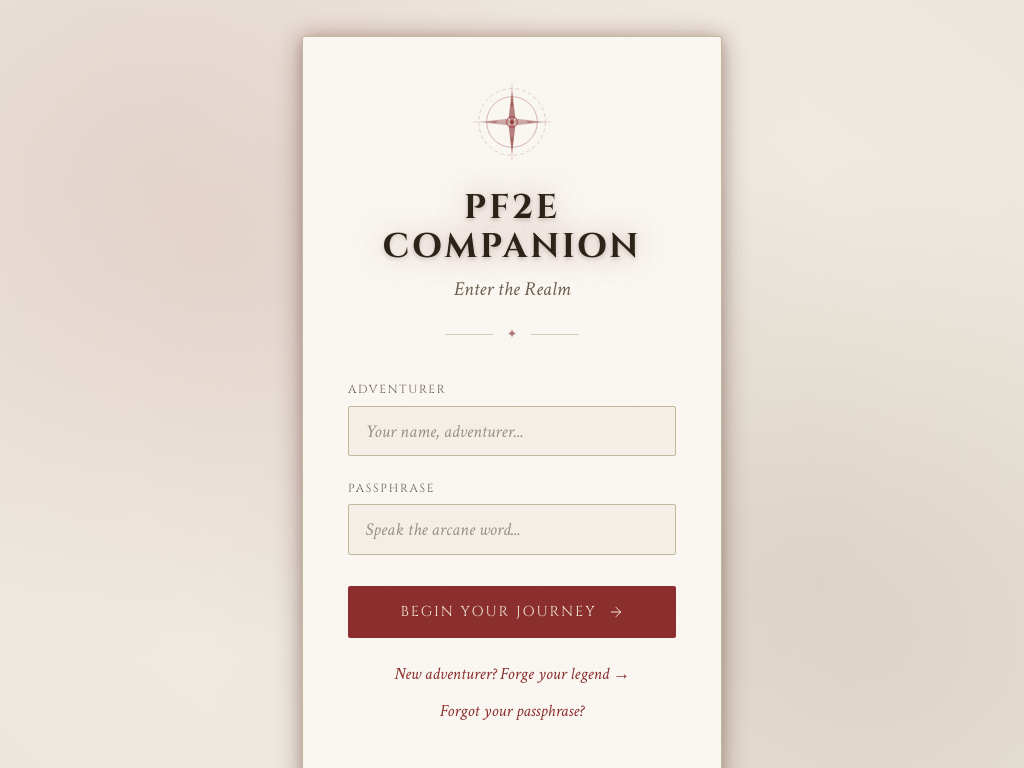
Test: Login › should switch back to login mode from register mode
Click the button "New adventurer? Forge your legend →" at (512, 674), box [394, 663, 630, 685]
(page scrolled)
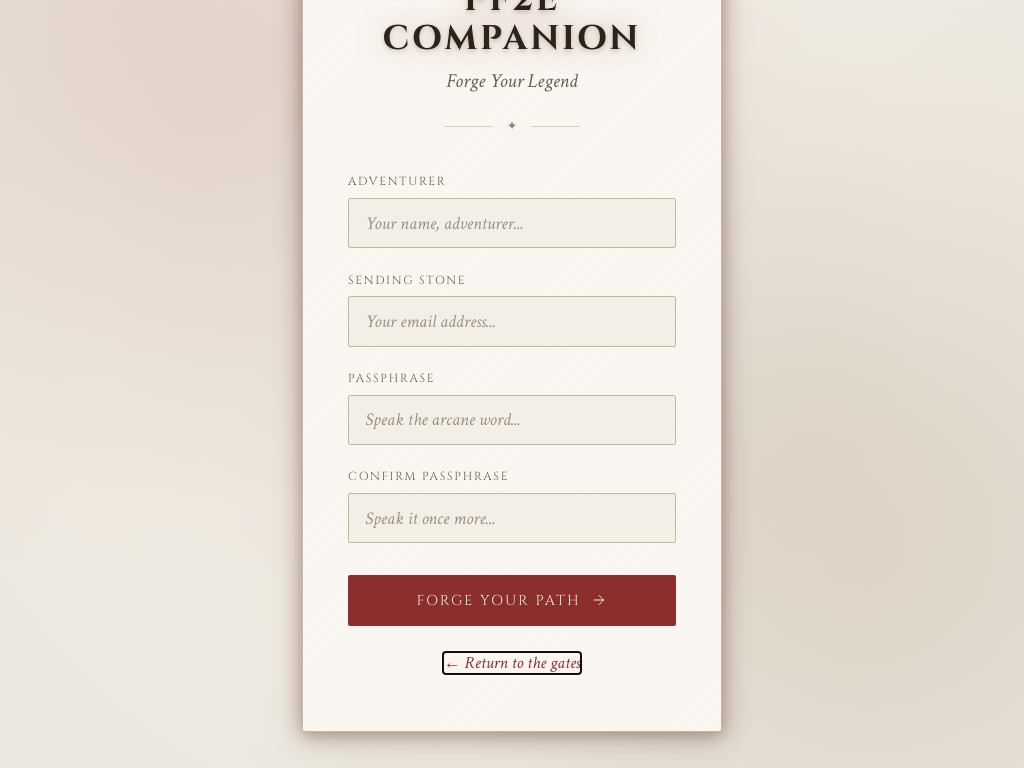
Click the button "← Return to the gates" at (512, 663), box [443, 652, 581, 674]
(page scrolled)
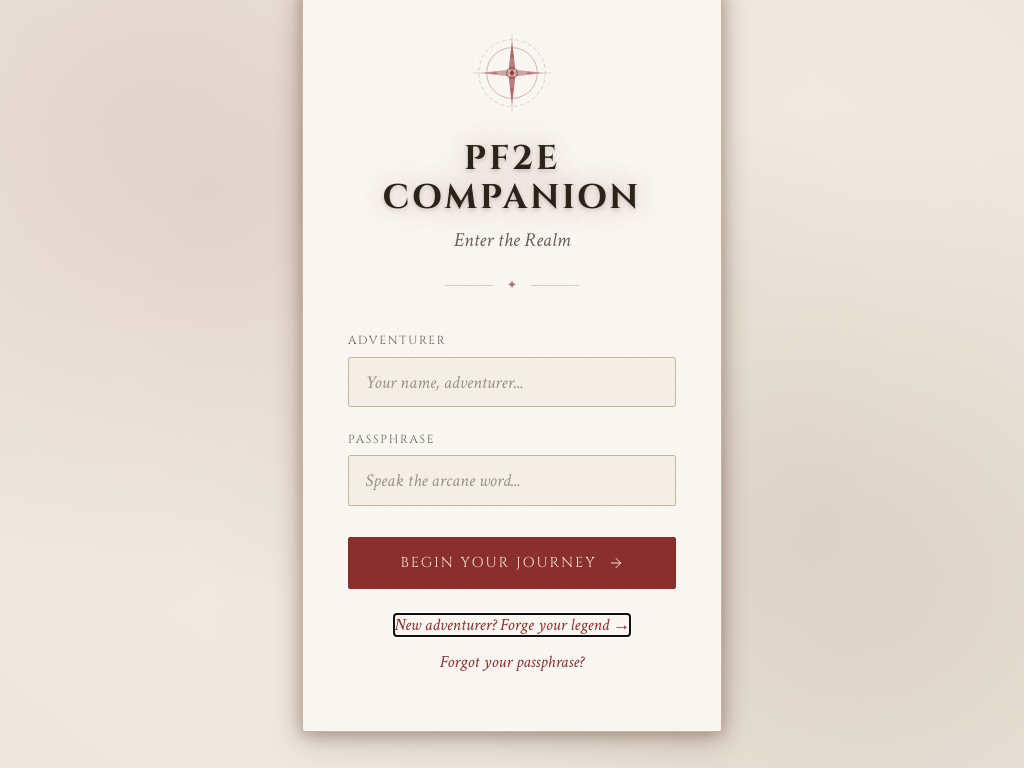
Result: the label labelled "Sending Stone" is gone
Result: the button "Begin Your Journey" is shown at [348, 537, 676, 589]
